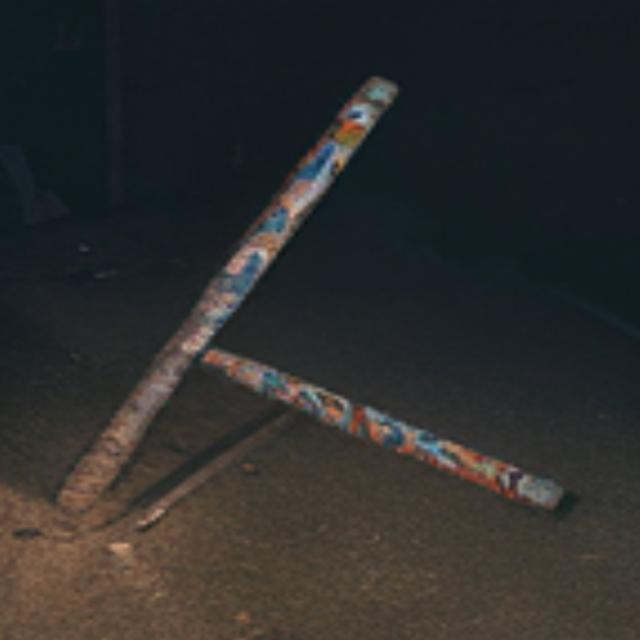Inclined Pole: (53, 67, 399, 514), (198, 345, 572, 516)
